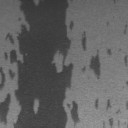red iron: (0, 0, 80, 128), (82, 48, 110, 80), (94, 99, 112, 110), (82, 30, 86, 50), (124, 22, 128, 34), (124, 55, 128, 66), (110, 118, 114, 128), (116, 109, 120, 114), (112, 0, 116, 4)
